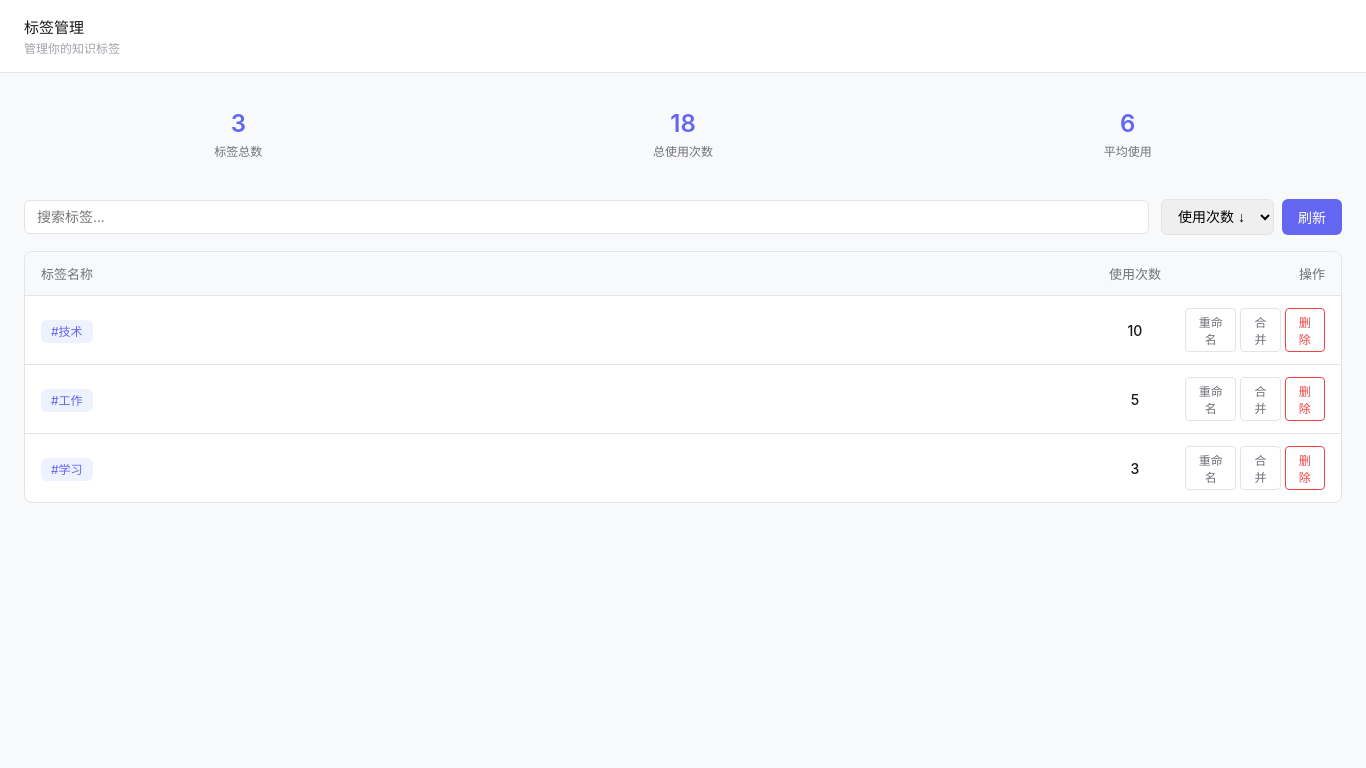
Test case: TagsManagement Component › should show delete confirmation when clicking delete
Click the button "删除" in the row of "10" at x=1305, y=330, box [1285, 308, 1325, 352]
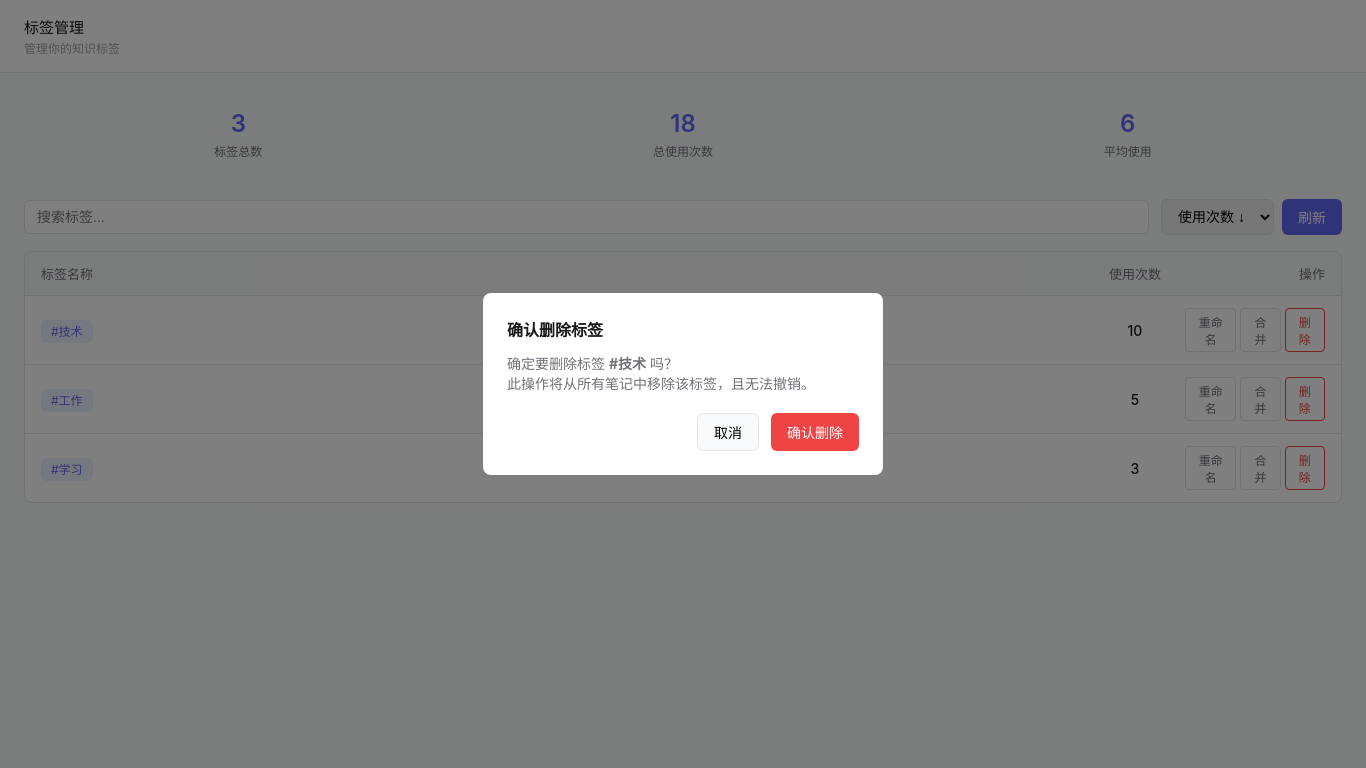
Now the text "确认删除标签" is shown, box [507, 320, 603, 340]
Now the text "确定要删除标签 #技术 吗？此操作将从所有笔记中移除该标签，且无法撤销。" is shown, box [507, 353, 859, 393]
